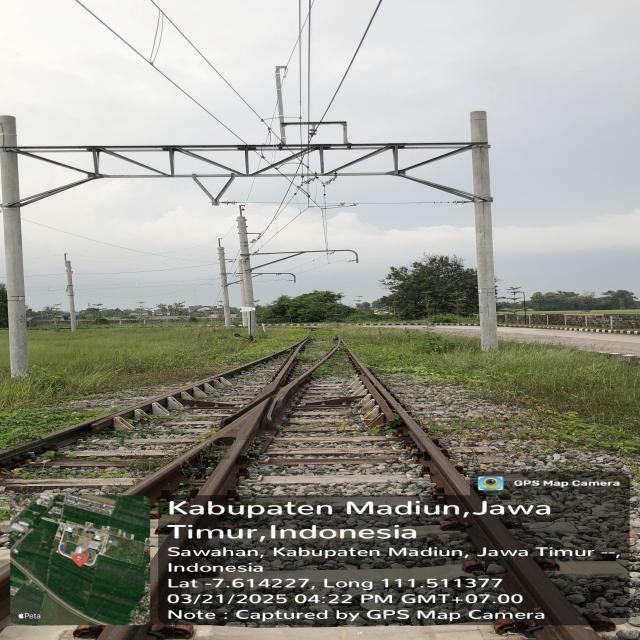rail-detection: (0, 337, 620, 640)
